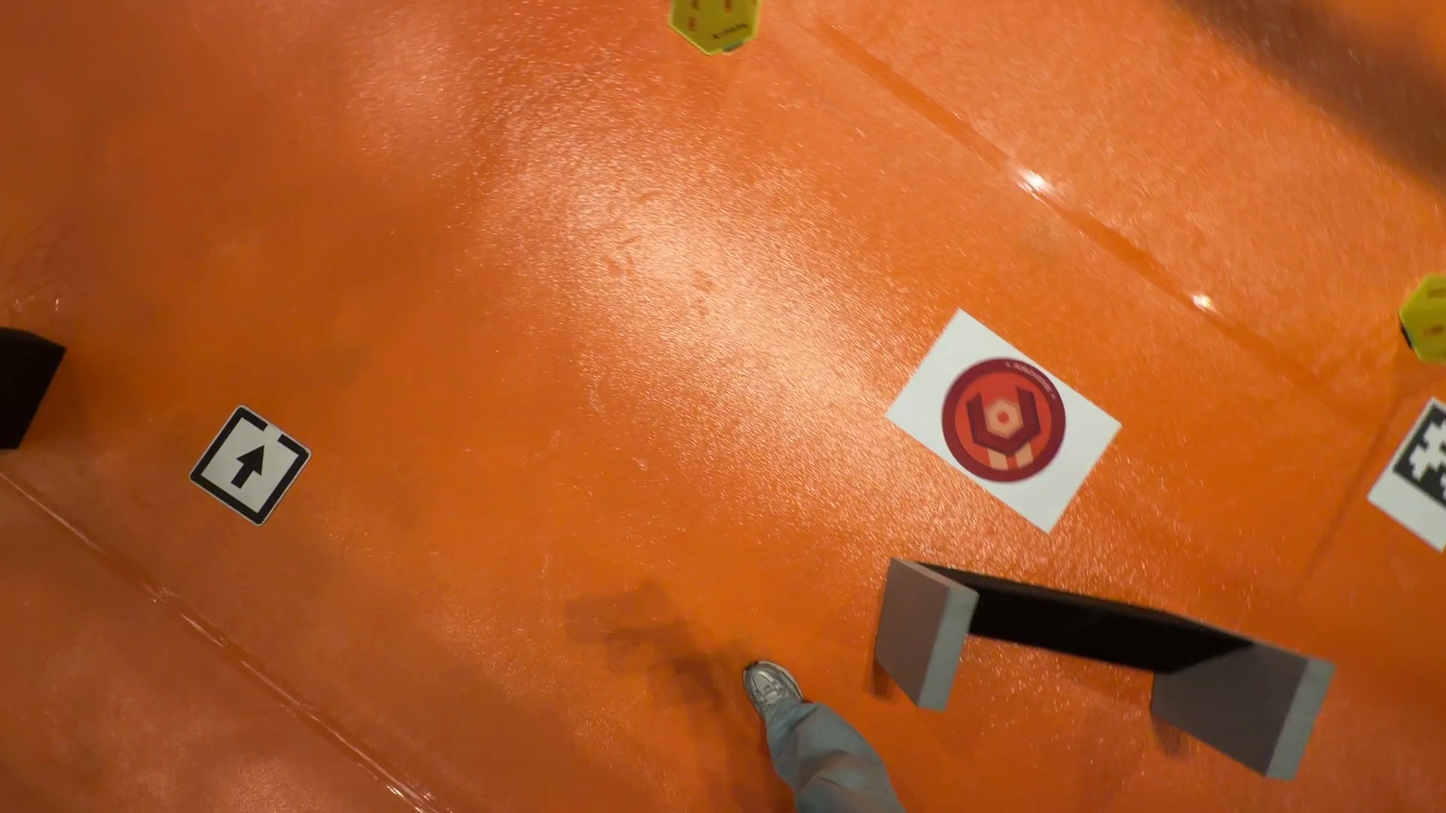landing_pad: (939, 359, 1068, 483)
